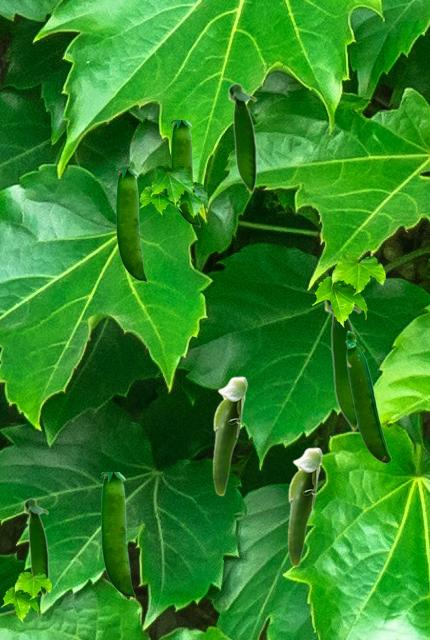pea: (345, 330, 390, 462), (323, 300, 361, 433), (287, 447, 322, 566), (212, 376, 247, 495), (101, 472, 134, 598), (116, 169, 146, 282), (227, 82, 256, 195), (171, 120, 199, 226), (23, 497, 48, 597)
